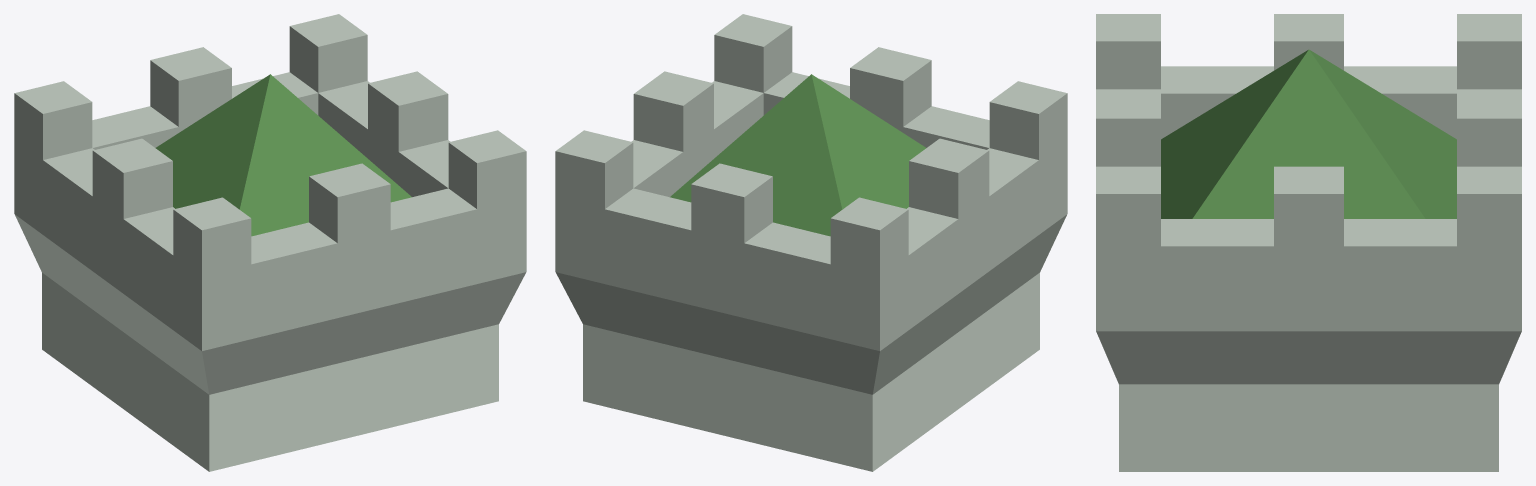
File: tile_028.fbx
3 views of the same model, side by side, from view 1: azimuth 30°, elevation 25°; view 2: azimuth 150°, elevation 25°; view 3: azimuth 270°, elevation 25° (orthographic). The views are drawn at different scales.
Parts seen in each view (by area): view 1: tile_028, Group; view 2: tile_028, Group; view 3: tile_028, Group.
Boxes of the visible parts, box(x1,y1,x2,y2) form: tile_028: box(14, 14, 526, 471); Group: box(155, 74, 411, 236); tile_028: box(555, 14, 1067, 471); Group: box(670, 74, 926, 236); tile_028: box(1096, 14, 1521, 471); Group: box(1161, 49, 1456, 218).
Bounding box in the file's own units: 6.61 × 5.86 × 6.61.
